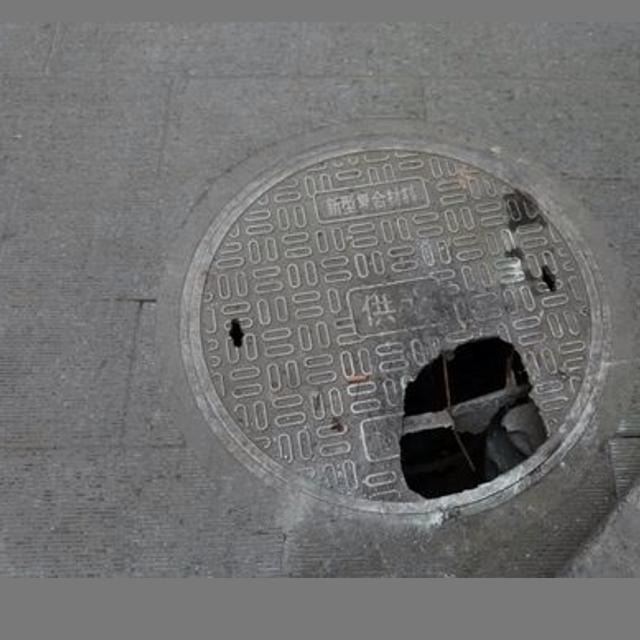broke: (161, 113, 625, 521)
